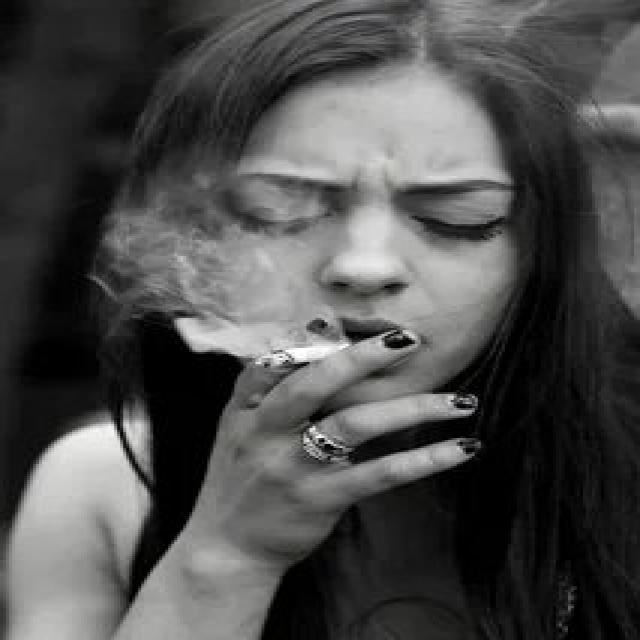cigarette: (256, 334, 366, 378)
